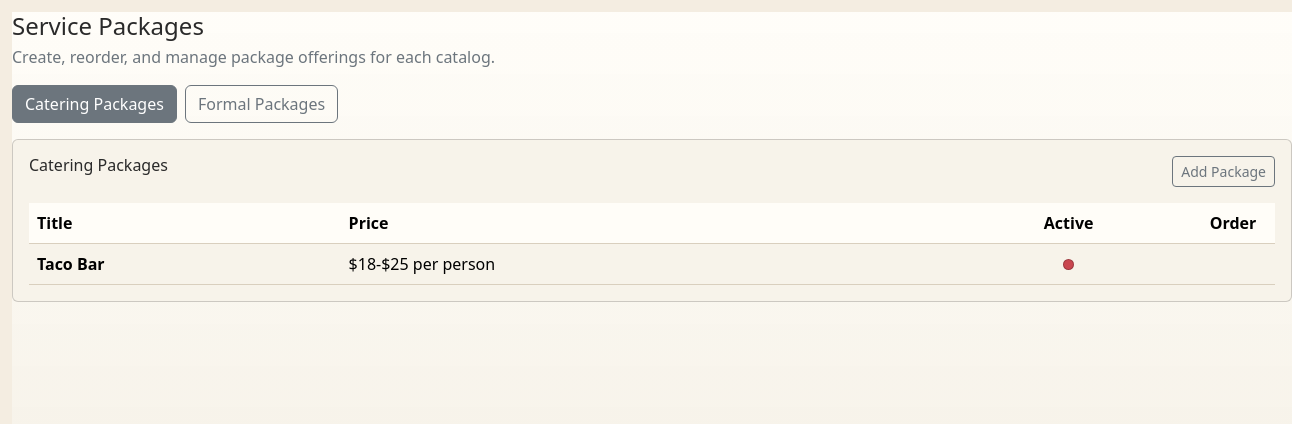
AdminServicePlansPage › toggles package active status from the display table
Check: the text "Taco Bar" is shown, box [37,253,105,275]
Click the button named "Set active": [1069, 264] box [1058,253,1080,275]
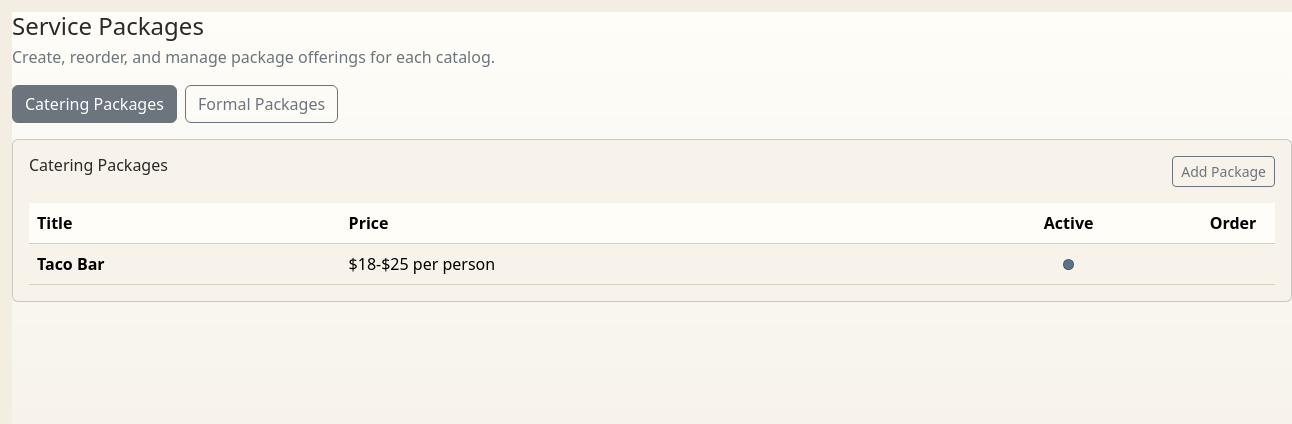
Check: the picture named "Active" is shown, box [1063,259,1074,270]
Check: the button named "Set inactive" is shown, box [1058,253,1080,275]
